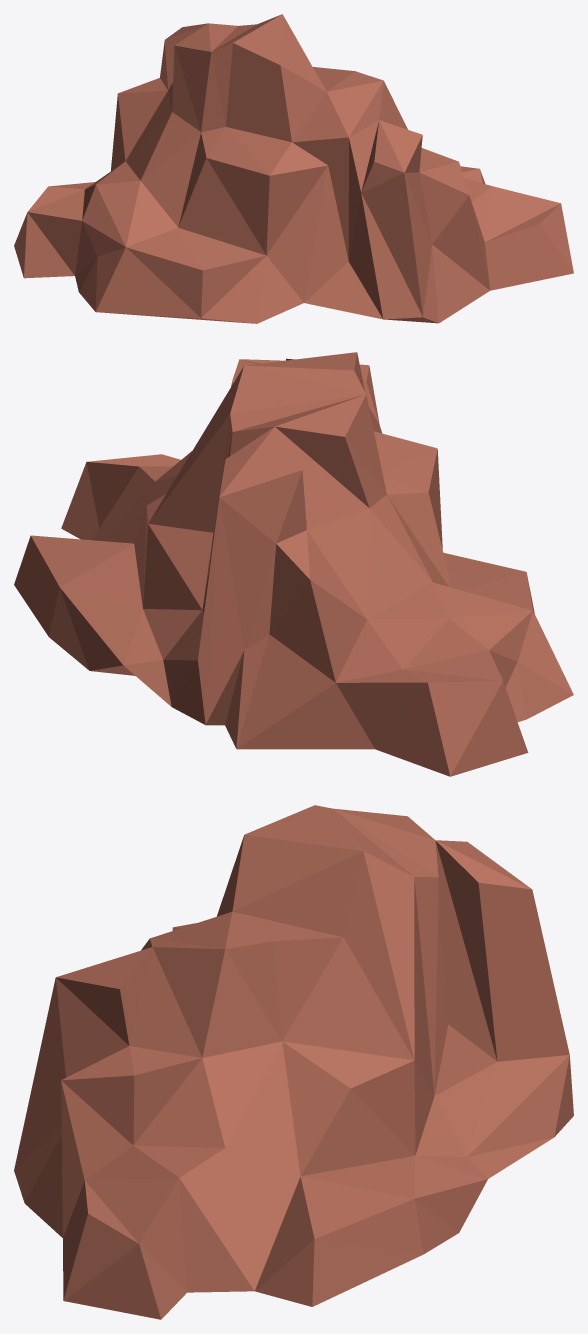
Rendered from rock_024.fbx.
3 views of the same model, one above another, from view 1: azimuth 30°, elevation 25°; view 2: azimuth 150°, elevation 25°; view 3: azimuth 270°, elevation 25° (orthographic). The views are drawn at different scales.
Visible parts, largest first — view 1: rock_024; view 2: rock_024; view 3: rock_024.
Boxes of the visible parts, left/top/right/bottom form: rock_024: left=14, top=14, right=573, bottom=323; rock_024: left=14, top=352, right=573, bottom=776; rock_024: left=14, top=805, right=573, bottom=1319.
Bounding box in the file's own units: 1159 × 885 × 570.
